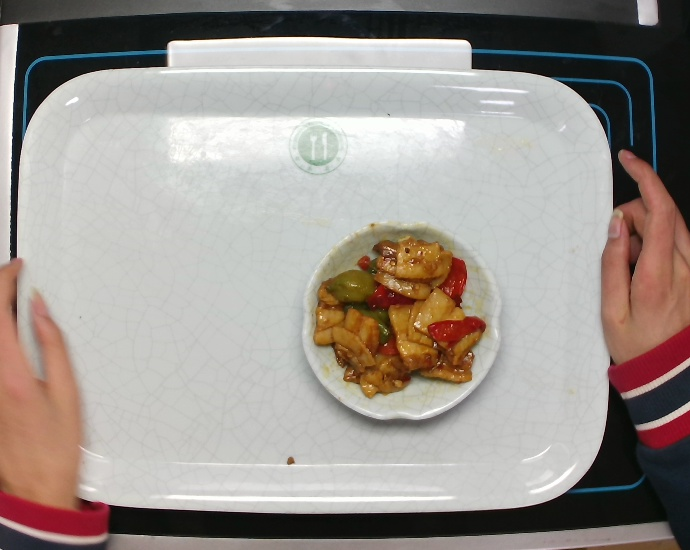JYsf-Ao_Yuan_Wan: (293, 211, 510, 427)
